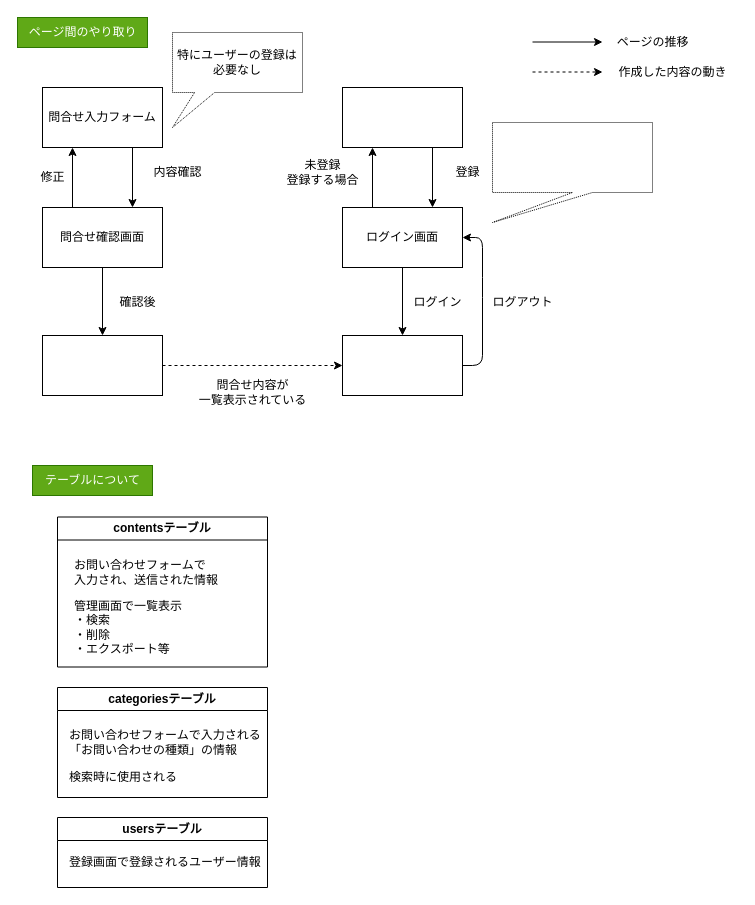
The diagram is 755 pixels wide and 905 high, and some of its shapes have lost their labels. The shapes that lost their labels are listed below. From the top down, each one's centre as x and y in pixels, then its label:
the point at 402,117: ユーザー登録画面
the point at 572,172: ユーザーを登録しないと管理画面を開くこと はできない
the point at 102,365: サンクスページ
the point at 402,365: 管理画面
